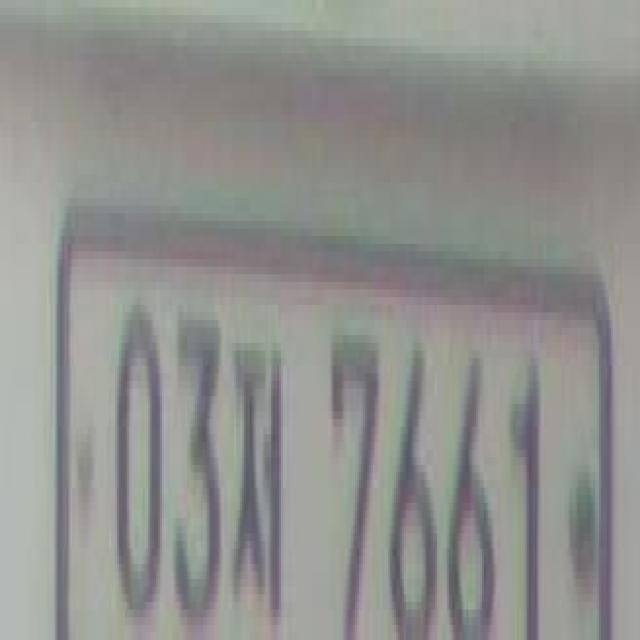illegal_plate: (53, 222, 616, 636)
